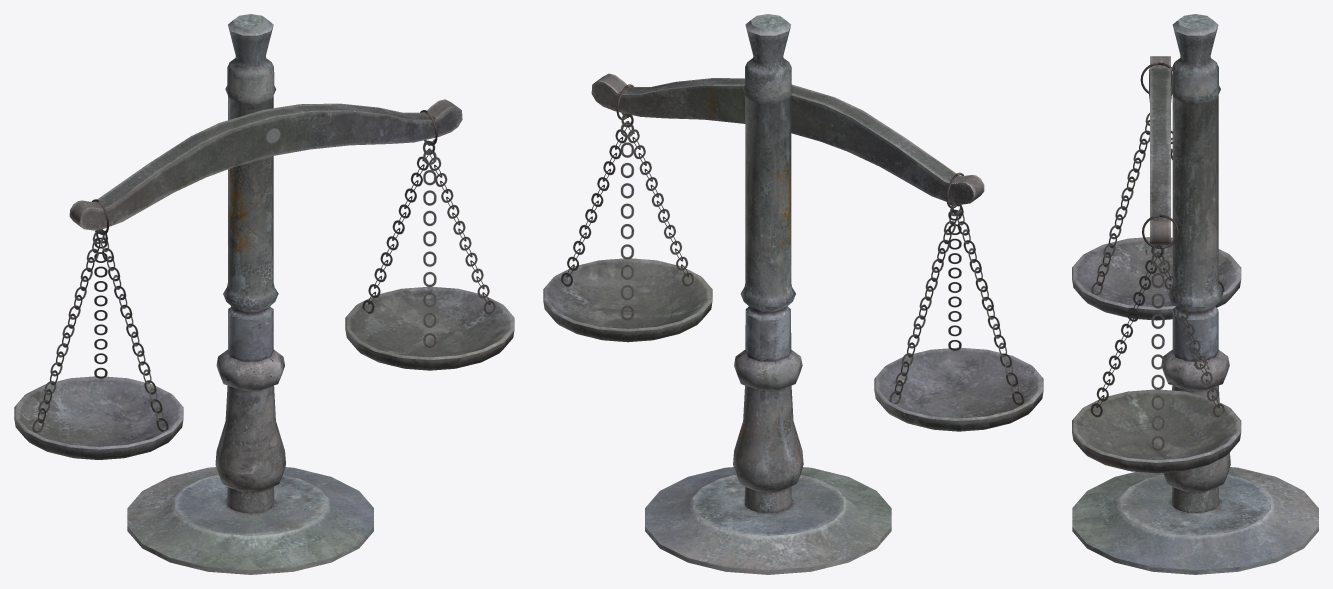
The model's file is balance_scale.glb.
3 views of the same model, side by side, from view 1: azimuth 30°, elevation 25°; view 2: azimuth 150°, elevation 25°; view 3: azimuth 270°, elevation 25° (orthographic).
Parts seen in each view (by area): view 1: Scales_LP_01 - Default_0; view 2: Scales_LP_01 - Default_0; view 3: Scales_LP_01 - Default_0.
Boxes of the visible parts, x1,y1,x2,y2 form: Scales_LP_01 - Default_0: (14, 14, 514, 574); Scales_LP_01 - Default_0: (543, 14, 1043, 574); Scales_LP_01 - Default_0: (1072, 14, 1318, 574).
Bounding box in the file's own units: 35.24 × 35.13 × 15.7.
1 material, 1 textured.
